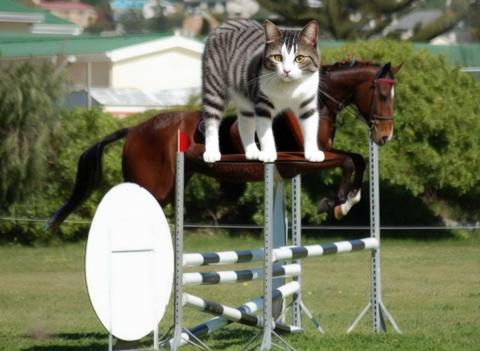cat: (200, 18, 323, 163)
horse: (123, 59, 406, 217)
